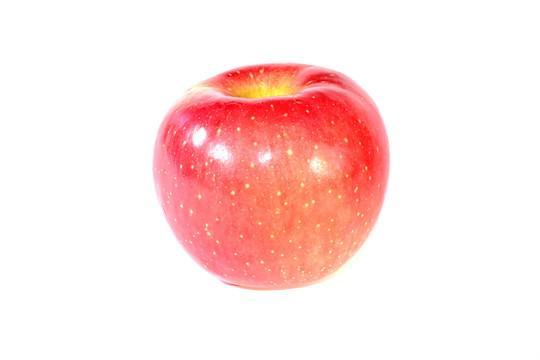apple: (155, 60, 390, 295)
